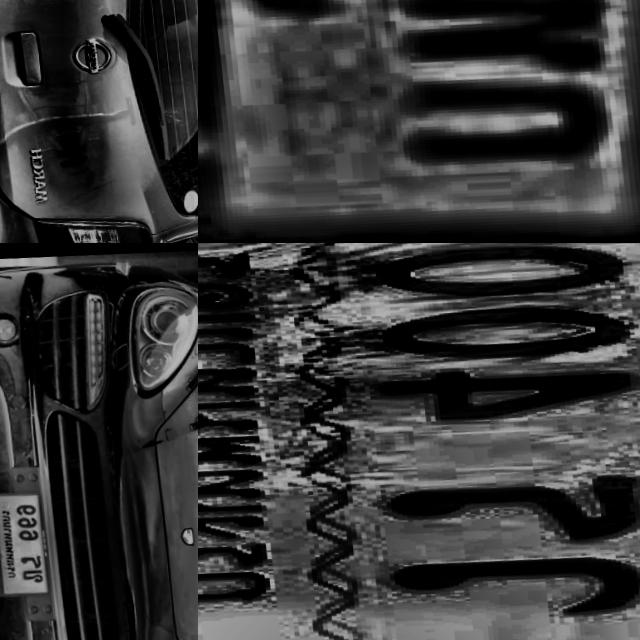license-plate: (198, 243, 640, 640), (198, 0, 640, 243), (0, 486, 51, 597)
